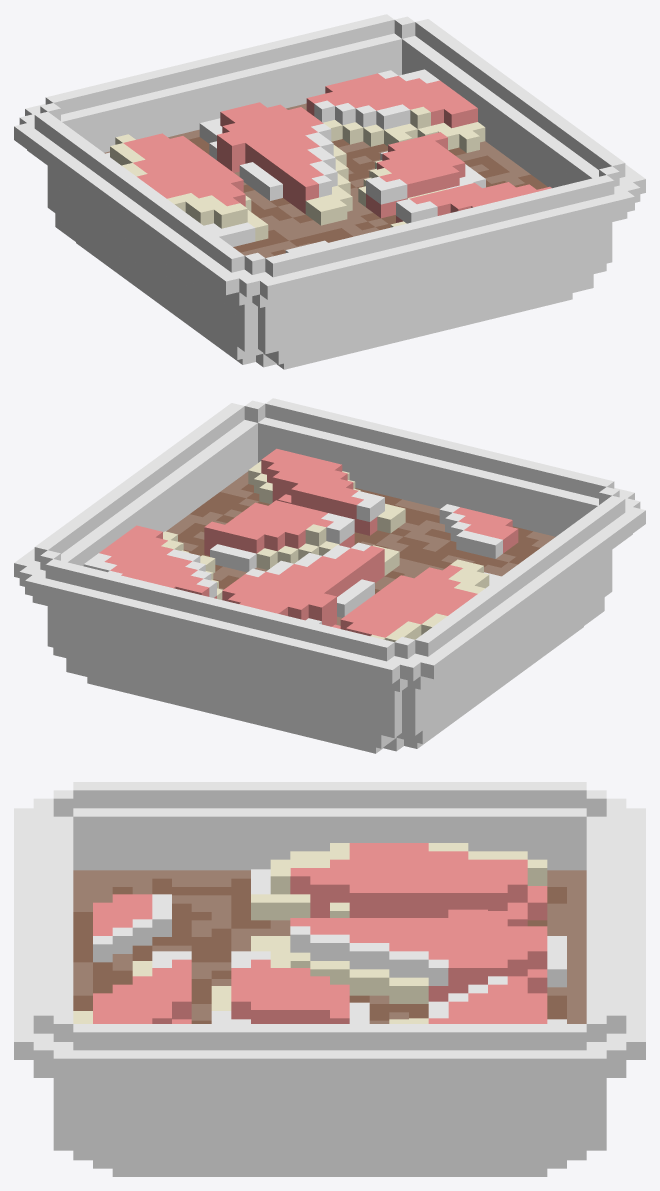
File: KARAAGEBOX.fbx
The picture shows the model from 3 angles, top to bottom: view 1: azimuth 30°, elevation 25°; view 2: azimuth 150°, elevation 25°; view 3: azimuth 270°, elevation 25°; orthographic projection. The views are drawn at different scales.
Visible parts, largest first — view 1: ObjObject; view 2: ObjObject; view 3: ObjObject.
Part boxes in pixels (x1,y1,x2,y2): ObjObject: [14, 14, 645, 369]; ObjObject: [14, 398, 645, 753]; ObjObject: [14, 782, 645, 1176].
Bounding box in the file's own units: 320 × 90 × 320.
Materials: 1 (1 with a texture image).
